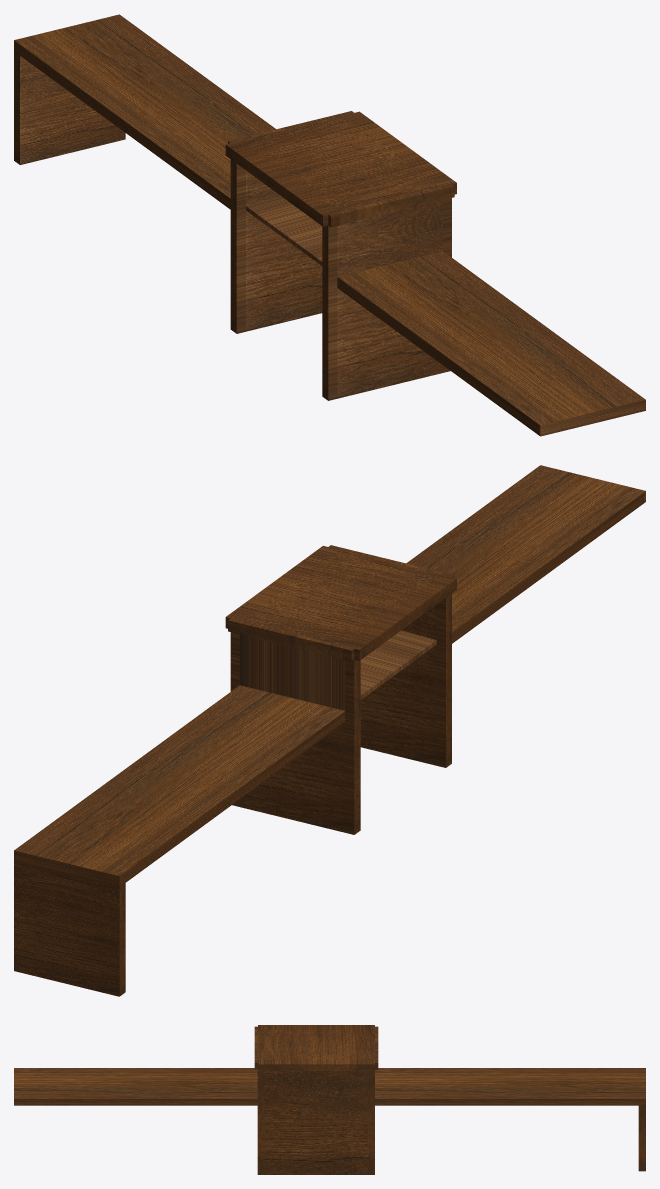
Rendered from MesaLocaLarga (1).fbx.
The picture shows the model from 3 angles, top to bottom: view 1: azimuth 30°, elevation 25°; view 2: azimuth 150°, elevation 25°; view 3: azimuth 270°, elevation 25°; orthographic projection. The views are drawn at different scales.
Visible parts, largest first — view 1: Cube.002; view 2: Cube.002; view 3: Cube.002.
Part boxes in pixels (x1,y1,x2,y2): Cube.002: [14, 14, 645, 436]; Cube.002: [14, 465, 645, 996]; Cube.002: [14, 1025, 645, 1174].
Size of the model in its own units: 191 by 253 by 1296.
